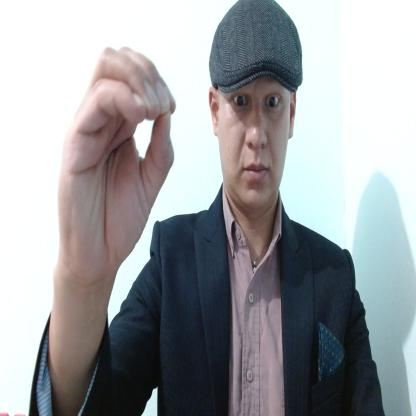O: (54, 45, 178, 273)
